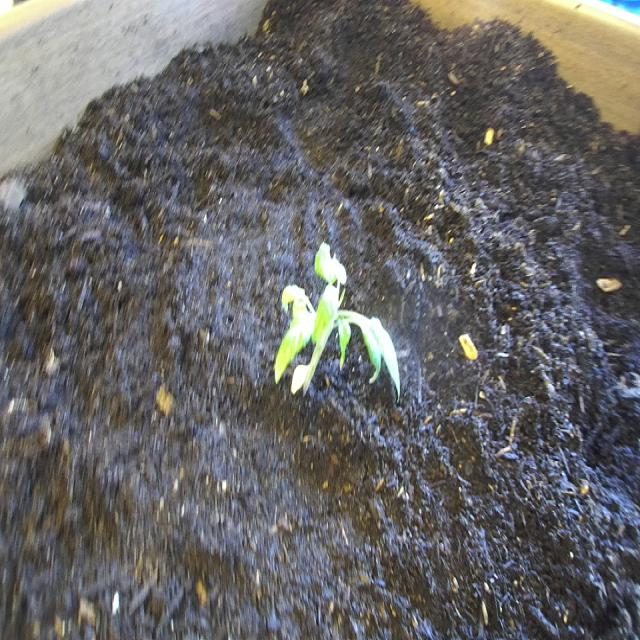Healthy: (264, 218, 409, 422)
